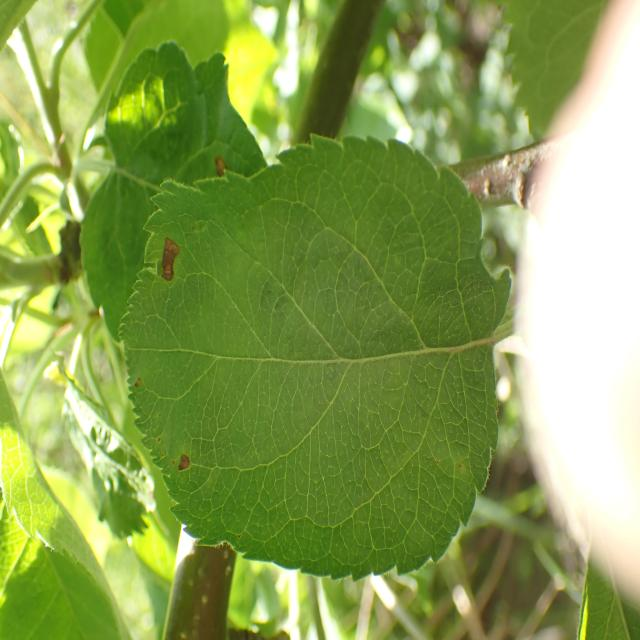Black Rot: (198, 139, 242, 208), (149, 211, 180, 295), (174, 456, 197, 496)
